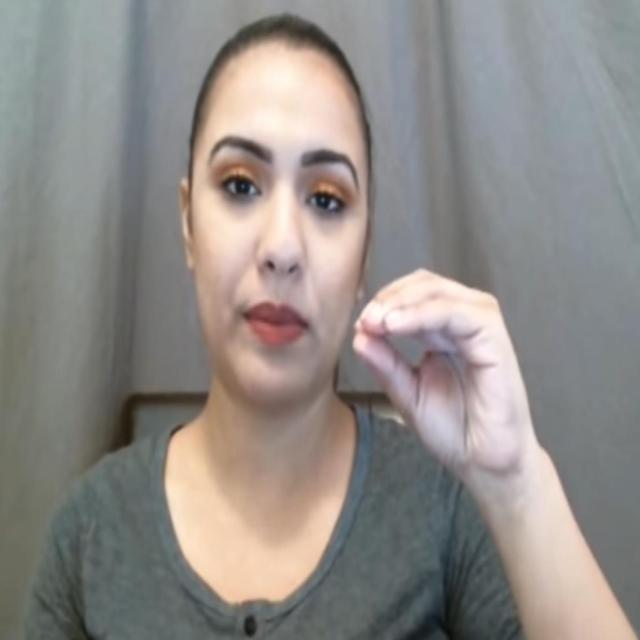O: (348, 263, 558, 472)
